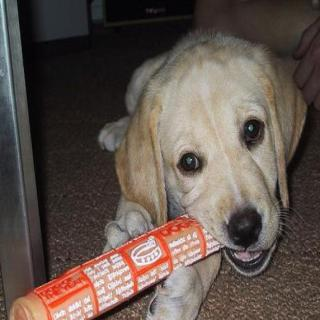dog: (130, 32, 314, 286)
nose: (221, 204, 268, 251)
